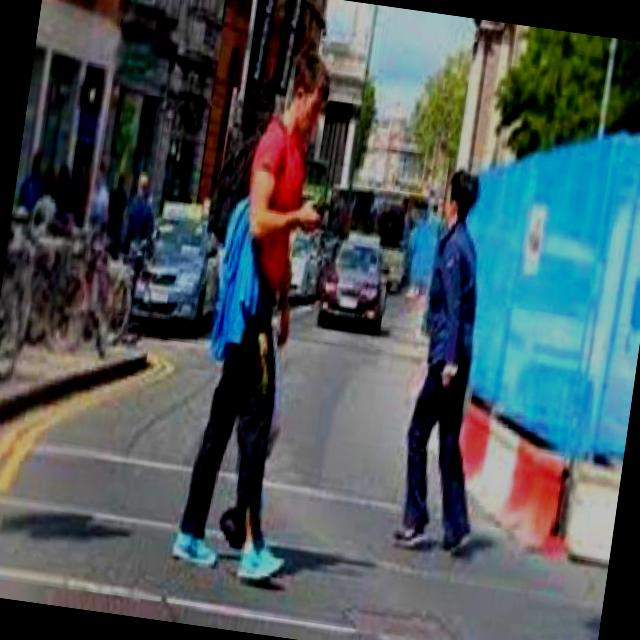Person: (171, 34, 356, 587), (387, 161, 521, 562)
